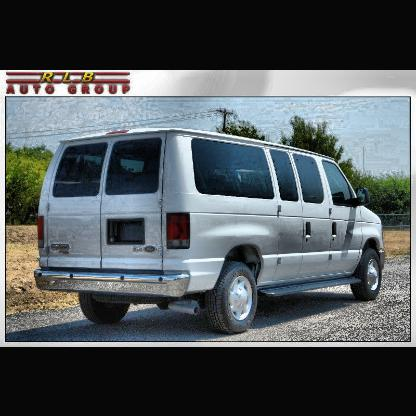Ford E-Series Wagon Van 2012: (37, 132, 385, 330)
